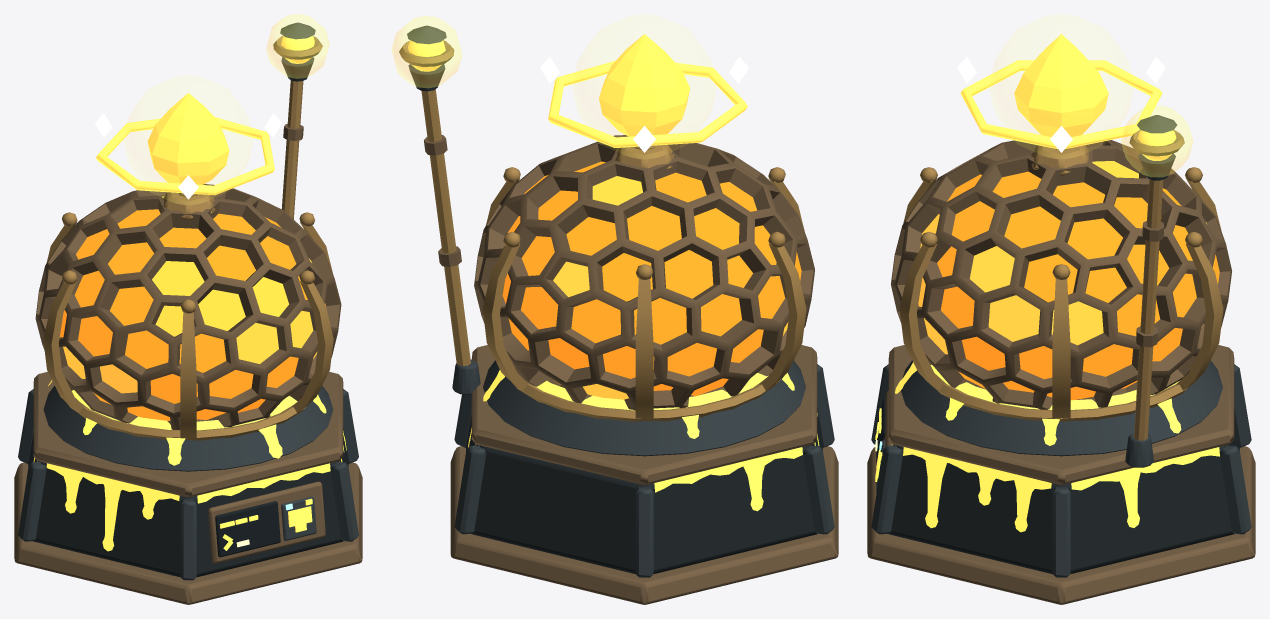
Rendered from honeypot.glb.
3 renders of one model, left to right at view 1: azimuth 30°, elevation 25°; view 2: azimuth 150°, elevation 25°; view 3: azimuth 270°, elevation 25°, orthographic. The views are drawn at different scales.
Visible parts, largest first — view 1: body_metal_brass, body_metal_graphite, body_honey, body_metal_dark, body_metal_brass_bright, body_honey_hot, body_role_glow, bait, beacon_halo, lure, body_glass_smoke, motes (+1 smaller); view 2: body_metal_brass, body_metal_dark, body_honey, body_metal_graphite, body_metal_brass_bright, bait, body_role_glow, beacon_halo, lure, body_honey_hot, motes, beacon; view 3: body_metal_brass, body_metal_dark, body_metal_graphite, body_honey, body_metal_brass_bright, body_role_glow, bait, body_honey_hot, beacon_halo, lure, motes, beacon.
Boxes of the visible parts, x1,y1,x2,y2 form: body_metal_brass: (14,124,362,604); body_metal_graphite: (18,22,358,580); body_honey: (59,209,325,420); body_metal_dark: (28,432,348,577); body_metal_brass_bright: (43,36,333,440); body_honey_hot: (63,196,317,393); body_role_glow: (33,380,346,551); bait: (147,93,229,184); beacon_halo: (266,14,329,78); lure: (96,117,274,195); body_glass_smoke: (215,501,280,557); motes: (95,113,281,199); body_metal_brass: (424,135,838,604); body_metal_dark: (466,414,822,574); body_honey: (502,161,801,396); body_metal_graphite: (407,25,834,577); body_metal_brass_bright: (399,40,806,421); bait: (599,34,690,136); body_role_glow: (468,370,819,511); beacon_halo: (391,16,461,87); lure: (548,61,747,147); body_honey_hot: (553,176,788,399); motes: (540,57,748,152); beacon: (408,40,445,71); body_metal_brass: (867,140,1255,604); body_metal_dark: (889,413,1239,573); body_metal_graphite: (871,115,1251,577); body_honey: (937,171,1219,400); body_metal_brass_bright: (899,130,1223,440); body_role_glow: (875,362,1219,532); bait: (1014,34,1108,136); body_honey_hot: (918,161,1207,354); beacon_halo: (1121,106,1192,176); lure: (960,60,1162,149); motes: (957,57,1165,152); beacon: (1138,130,1176,160).
Size of the model in its own units: 1.25 by 1.49 by 1.07.
